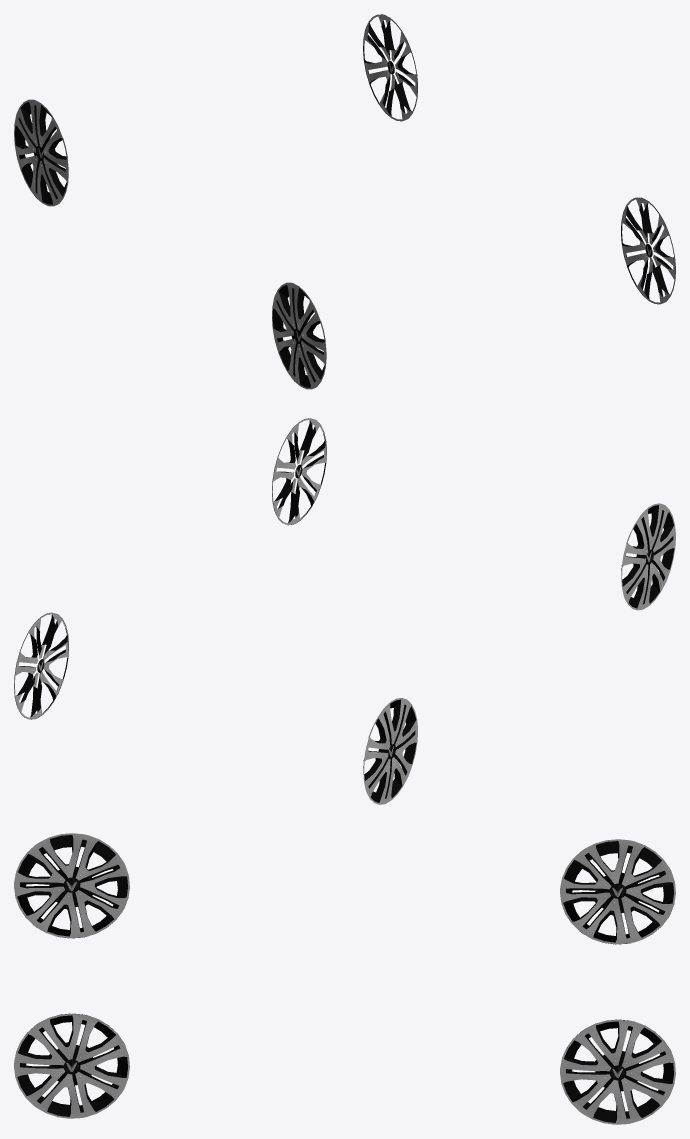
3 views of the same model, one above another, from view 1: azimuth 30°, elevation 25°; view 2: azimuth 150°, elevation 25°; view 3: azimuth 270°, elevation 25° (orthographic). The views are drawn at different scales.
Visible parts, largest first — view 1: 8; view 2: 8; view 3: 8.
Part boxes in pixels (<box>): 8: <box>14,14,675,389</box>; 8: <box>14,418,675,804</box>; 8: <box>14,833,675,1124</box>.
Bounding box in the file's own units: 0.9918 × 0.2814 × 1.52.
Materials: 3 (1 with a texture image).
